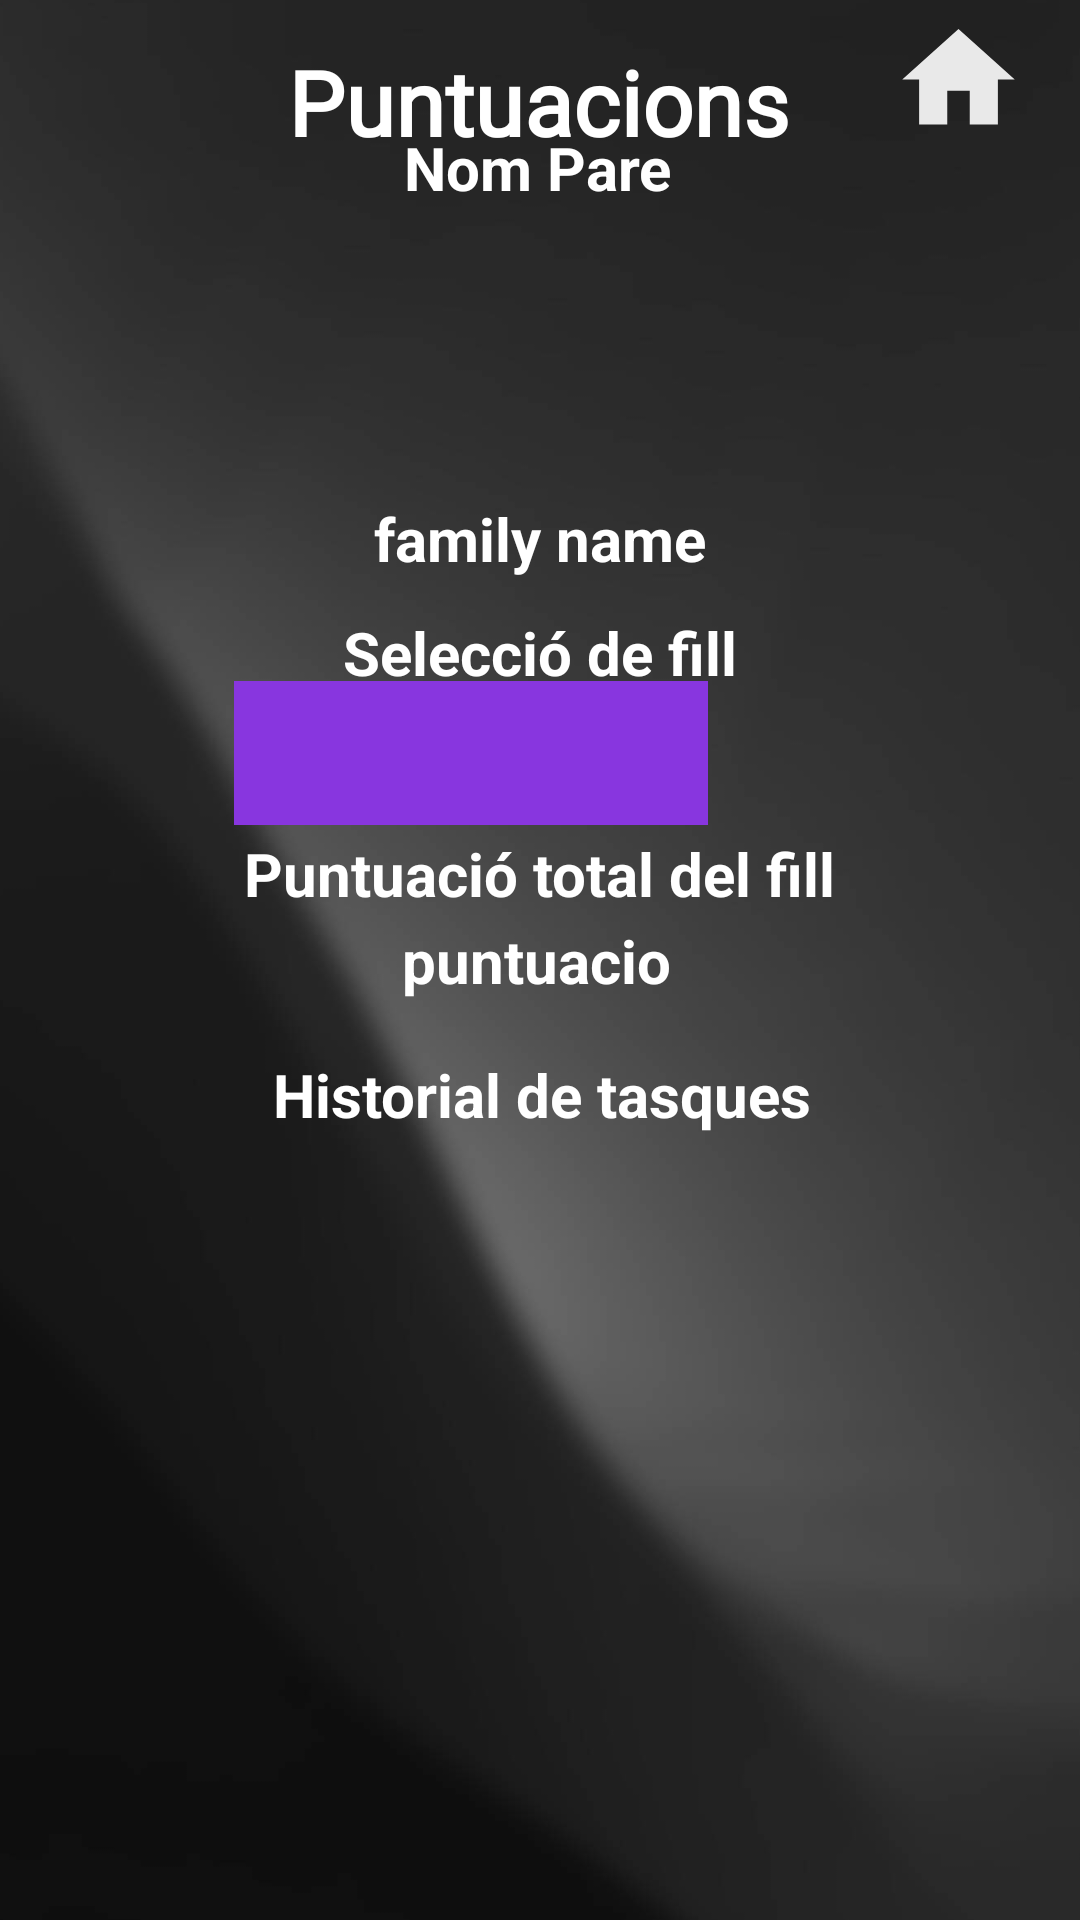

Named icons in this screenshot (1080 x 1920) and their centers, (x,y):
home: (958,77)
